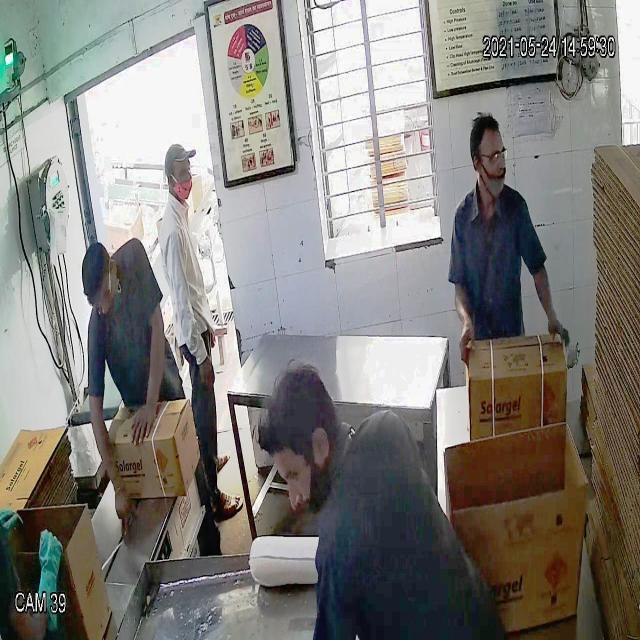glasses: (468, 141, 510, 170)
